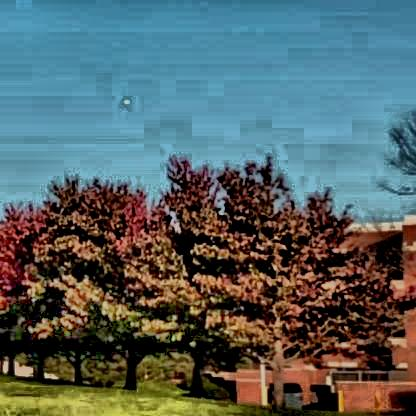golfball: (120, 95, 130, 103)
